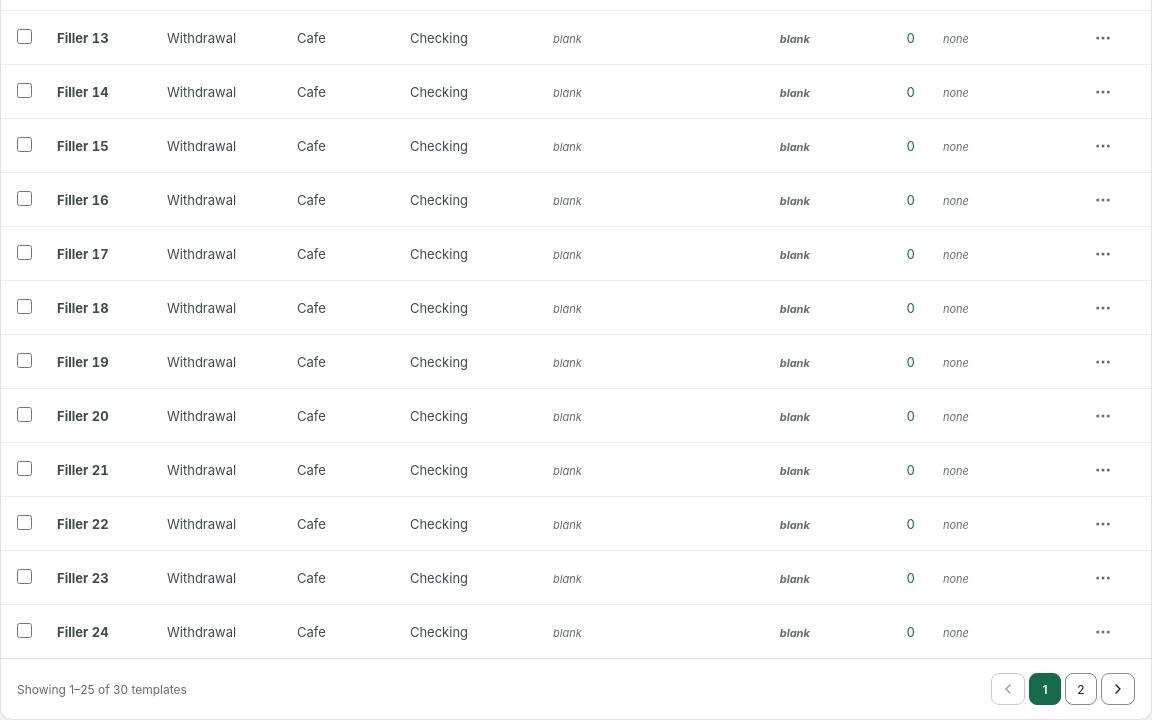
Test: the templates screen › pages through the list and comes back to page one on a search
This screenshot has width=1152, height=720.
(page scrolled)
Check: the text "Filler 25" is not shown
Click the button named "Page 2" at {"x": 1081, "y": 689}, box [1065,673,1097,705]
(page scrolled)
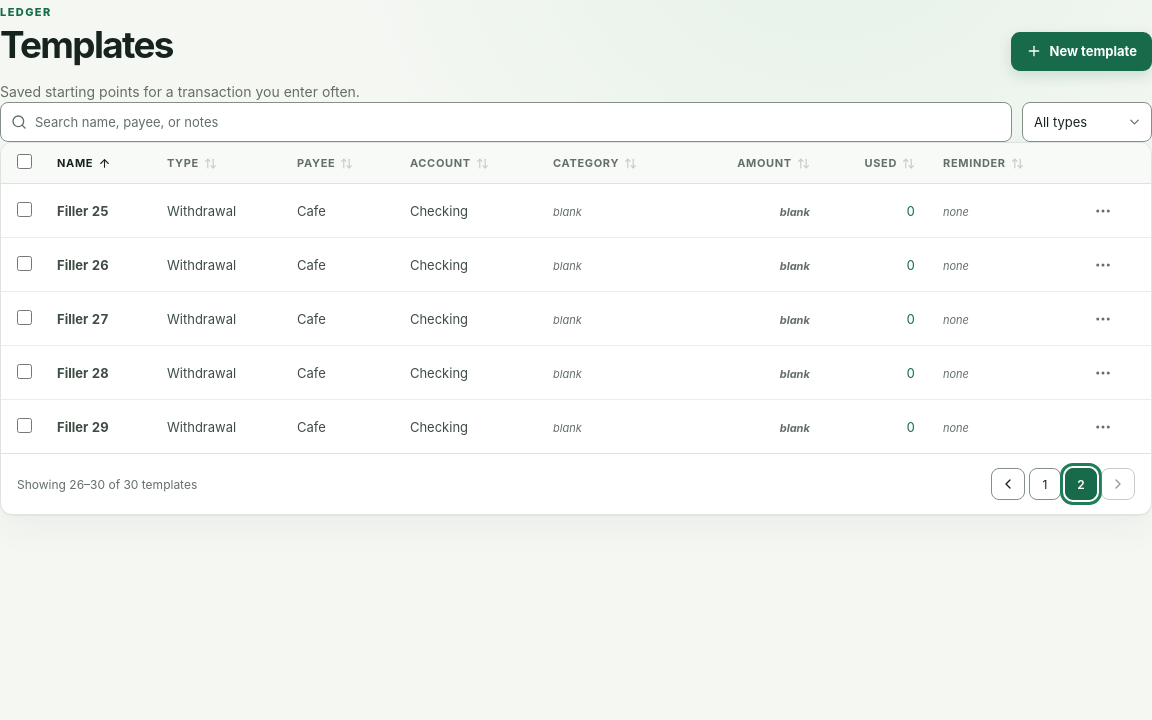
Check: the text "Filler 25" is shown, box [57,203,108,219]
Type "Filler 03" into the search field named "Search templates" at {"x": 506, "y": 122}, box [0,102,1012,142]
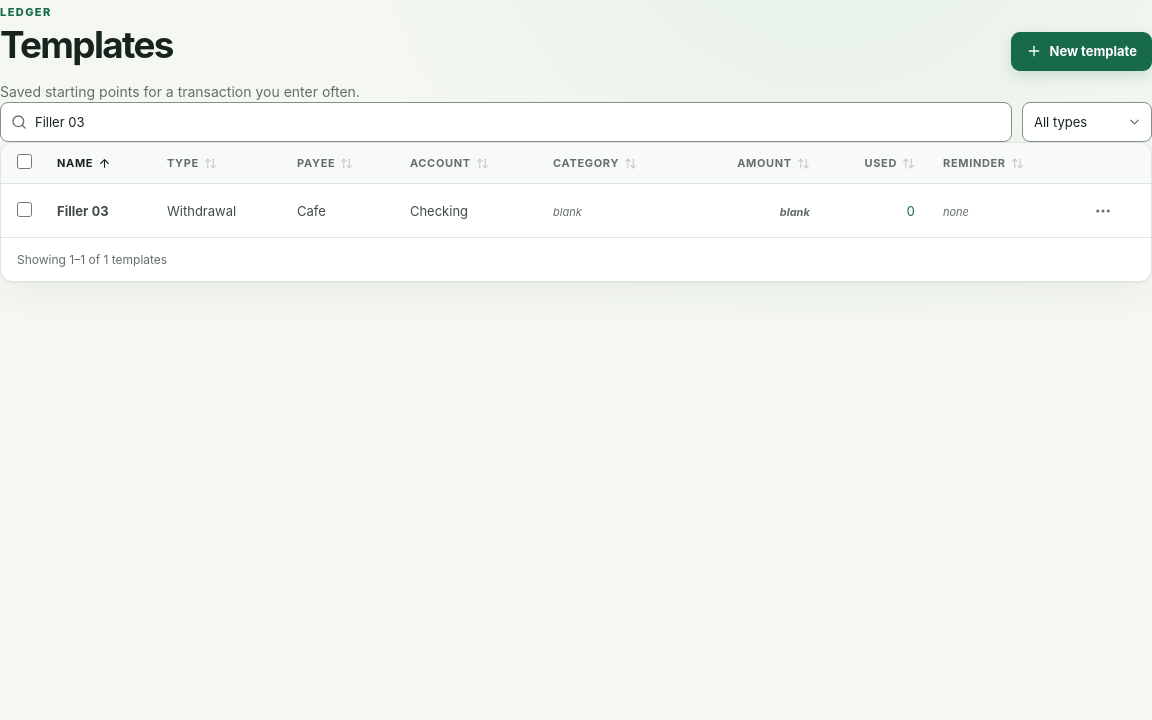
Check: the text "Filler 03" is shown, box [57,203,108,219]
